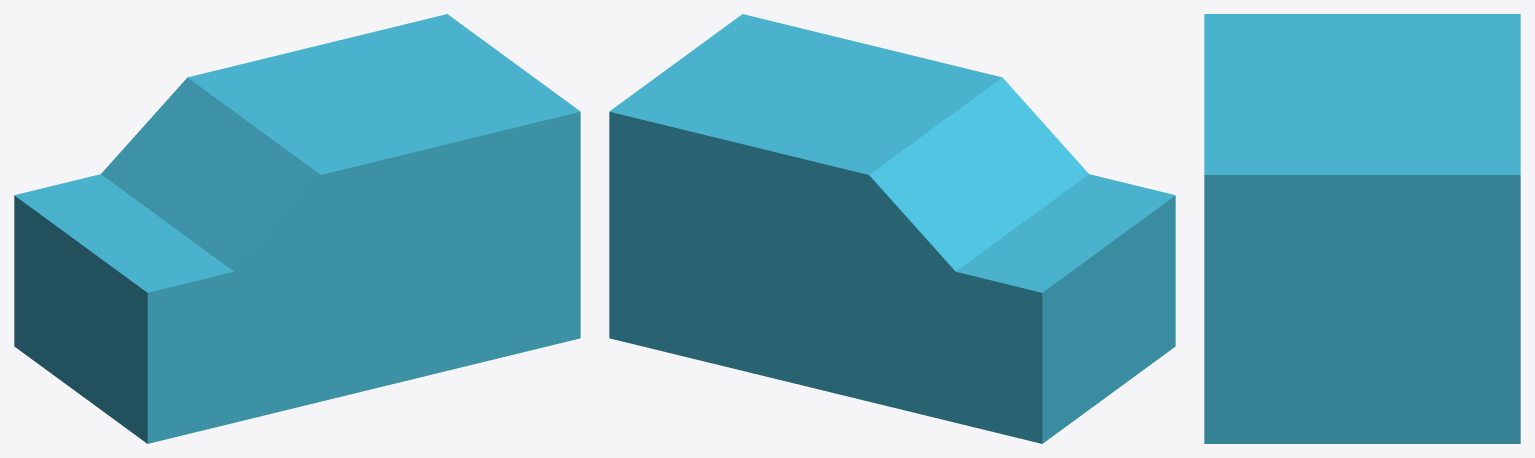
File: shopper.fbx
The picture shows the model from 3 angles, left to right: view 1: azimuth 30°, elevation 25°; view 2: azimuth 150°, elevation 25°; view 3: azimuth 270°, elevation 25°; orthographic projection. The views are drawn at different scales.
Visible parts, largest first — view 1: Cube; view 2: Cube; view 3: Cube.
Part boxes in pixels (<box>): Cube: <box>14,14,580,443</box>; Cube: <box>609,14,1175,443</box>; Cube: <box>1204,14,1520,443</box>.
Size of the model in its own units: 30 by 15 by 16.
